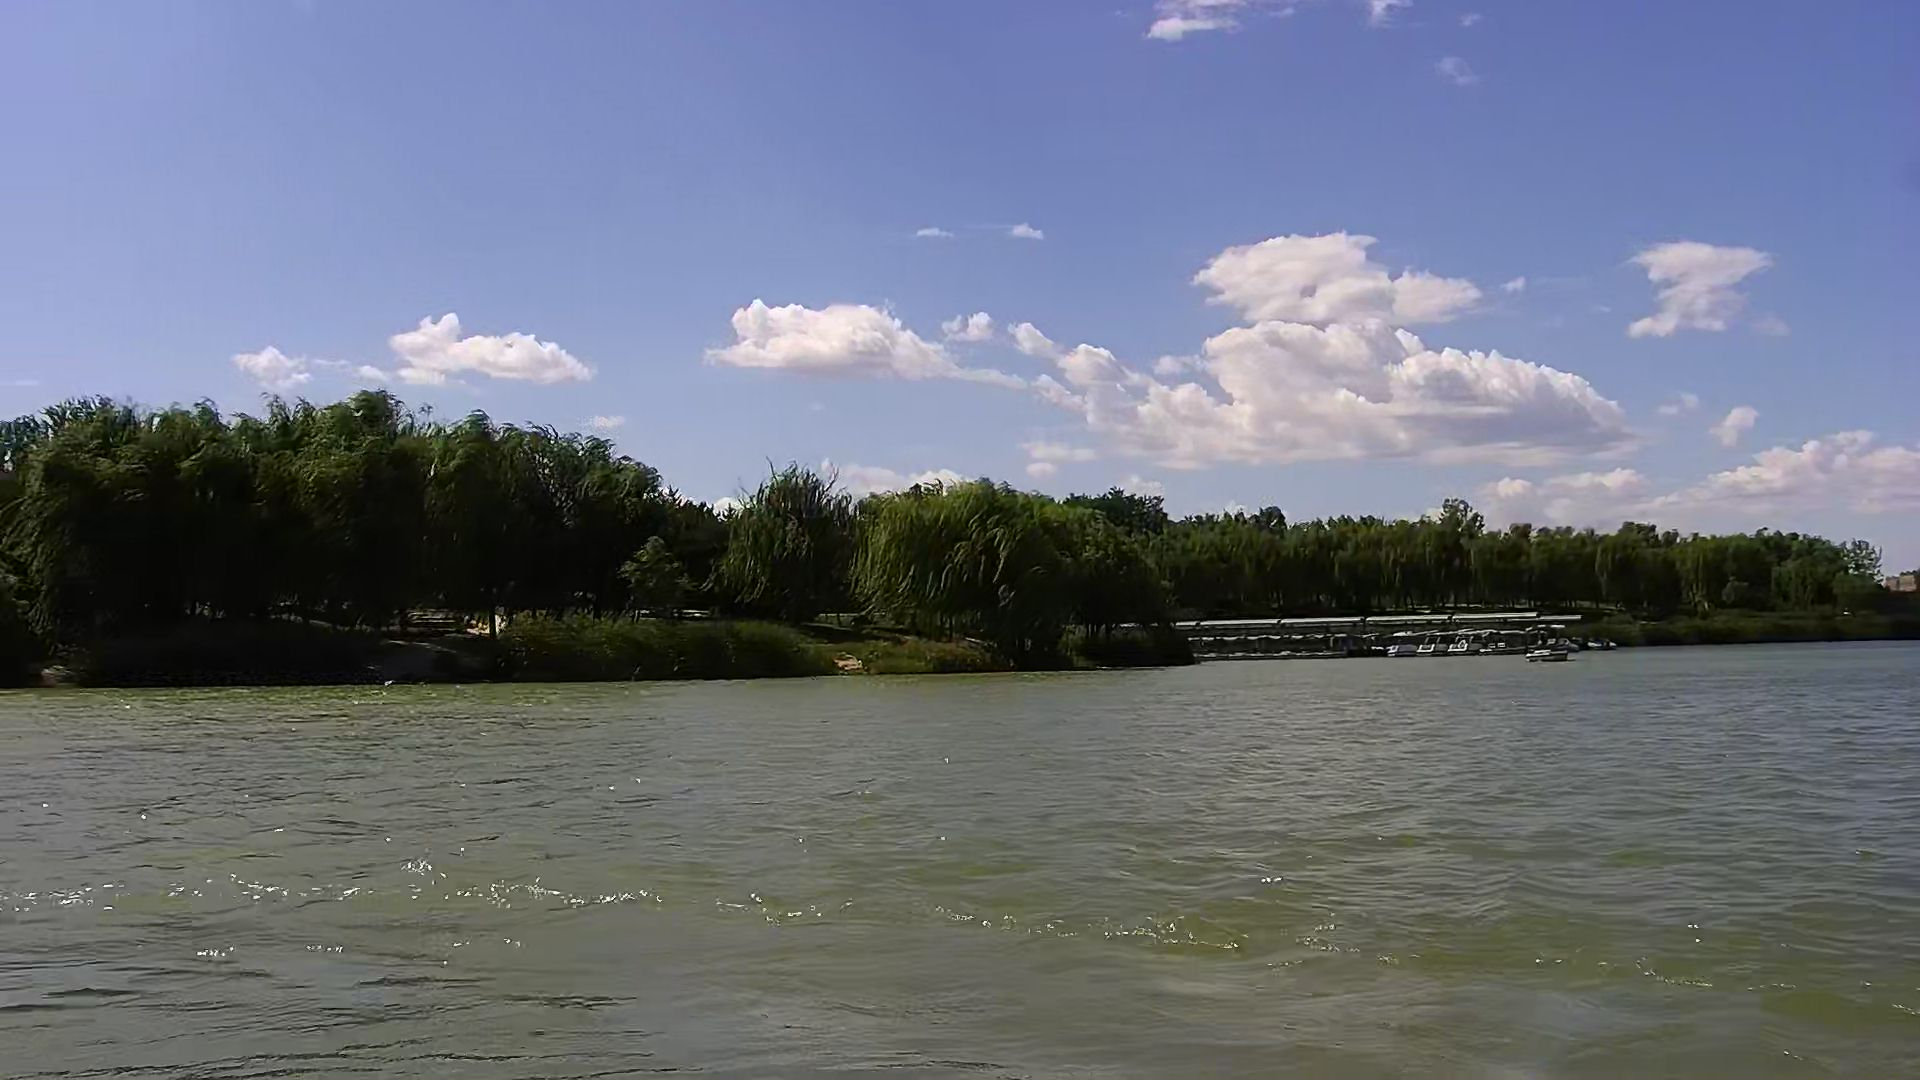boat: (1484, 632, 1532, 655), (1447, 633, 1489, 658), (1387, 632, 1420, 658), (1419, 633, 1455, 655), (1522, 649, 1568, 661)
harbor: (1200, 616, 1588, 657)
